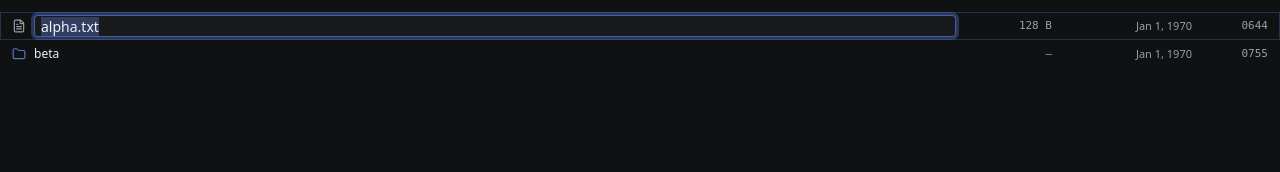
Test: FileTable inline rename › rejects an invalid name without submitting
Replace the text in the field named "New name" with "bad/name" at (495, 26), box [34,15,956,37]
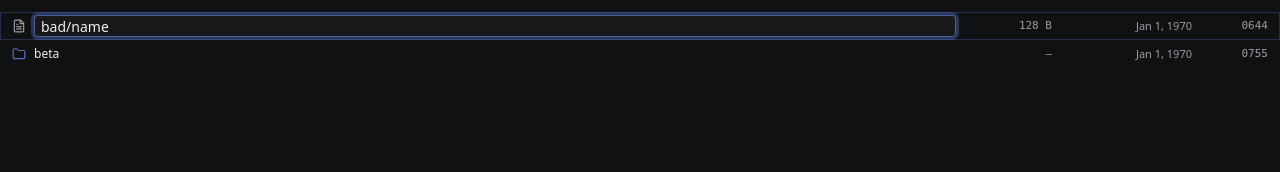
Press Enter in the field named "New name", box [34,15,956,37]
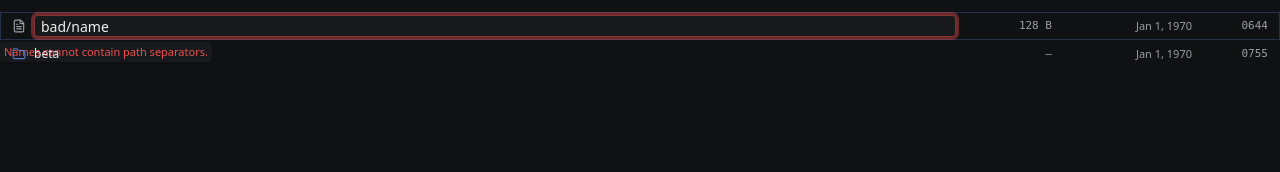
Expected: the text "Names cannot contain path separators." is shown, [0,42,212,62]
